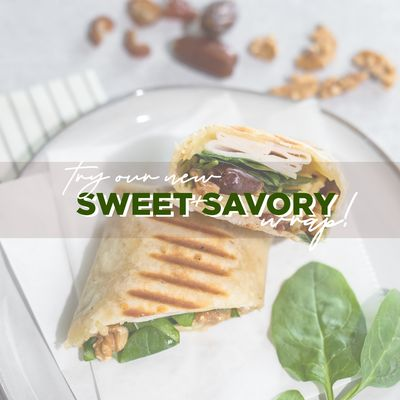soup: (166, 123, 354, 246)
